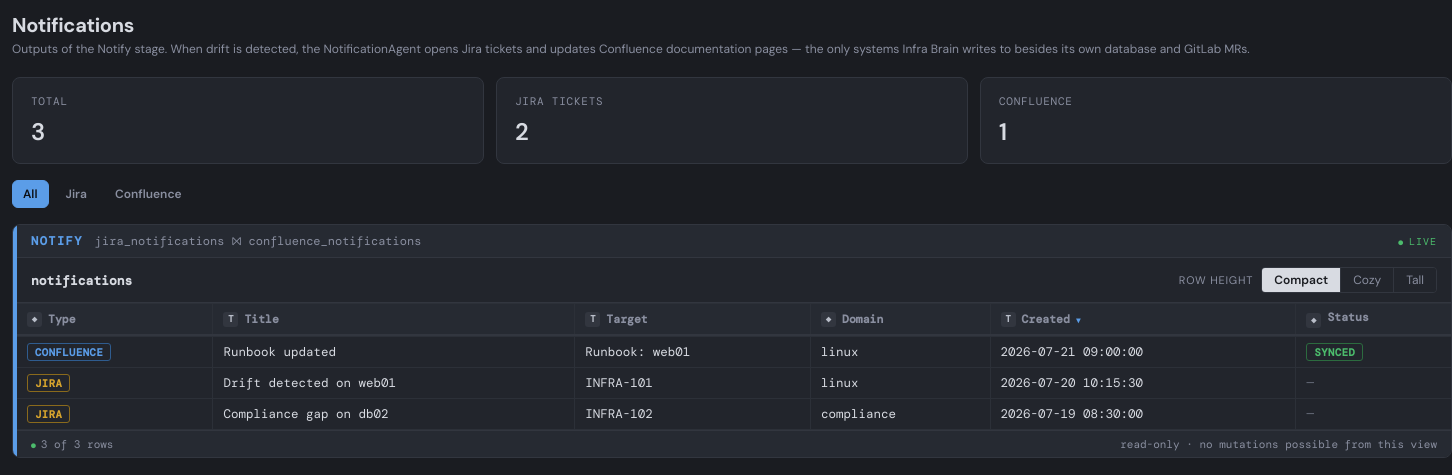
Notifications page — Phase 3 DataTable/Panel rebuild › filters by type via the tab buttons
Expected: the text "Drift detected on web01" is shown, [213,368,575,398]
Click the button "Confluence".
click(148, 194)  # box [104,180,193,208]
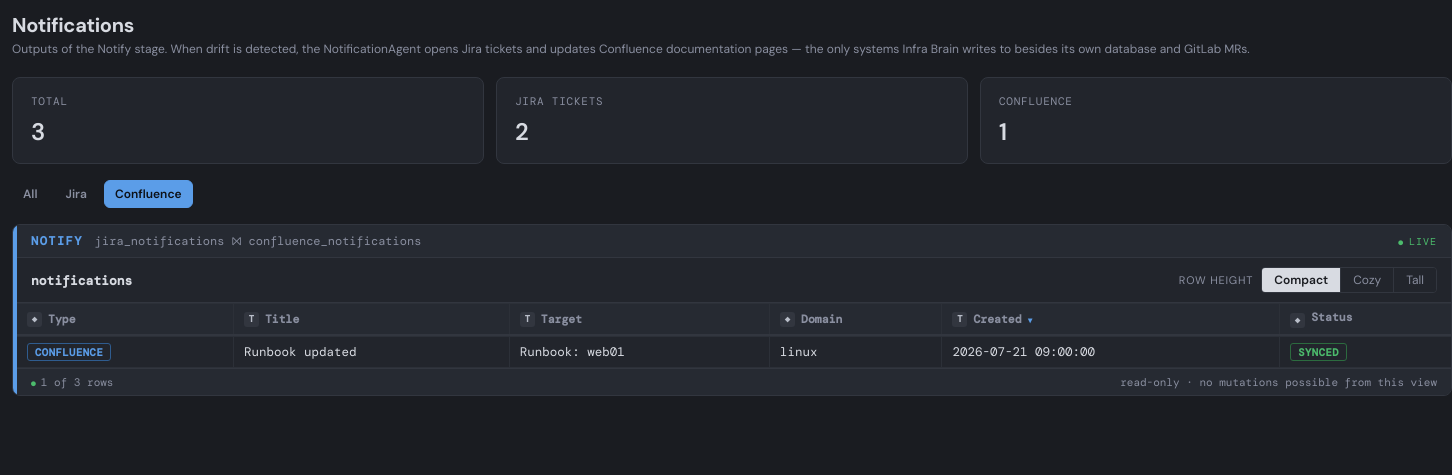
Expected: the text "Runbook updated" is shown, [233,336,509,368]
Expected: the text "Drift detected on web01" is gone
